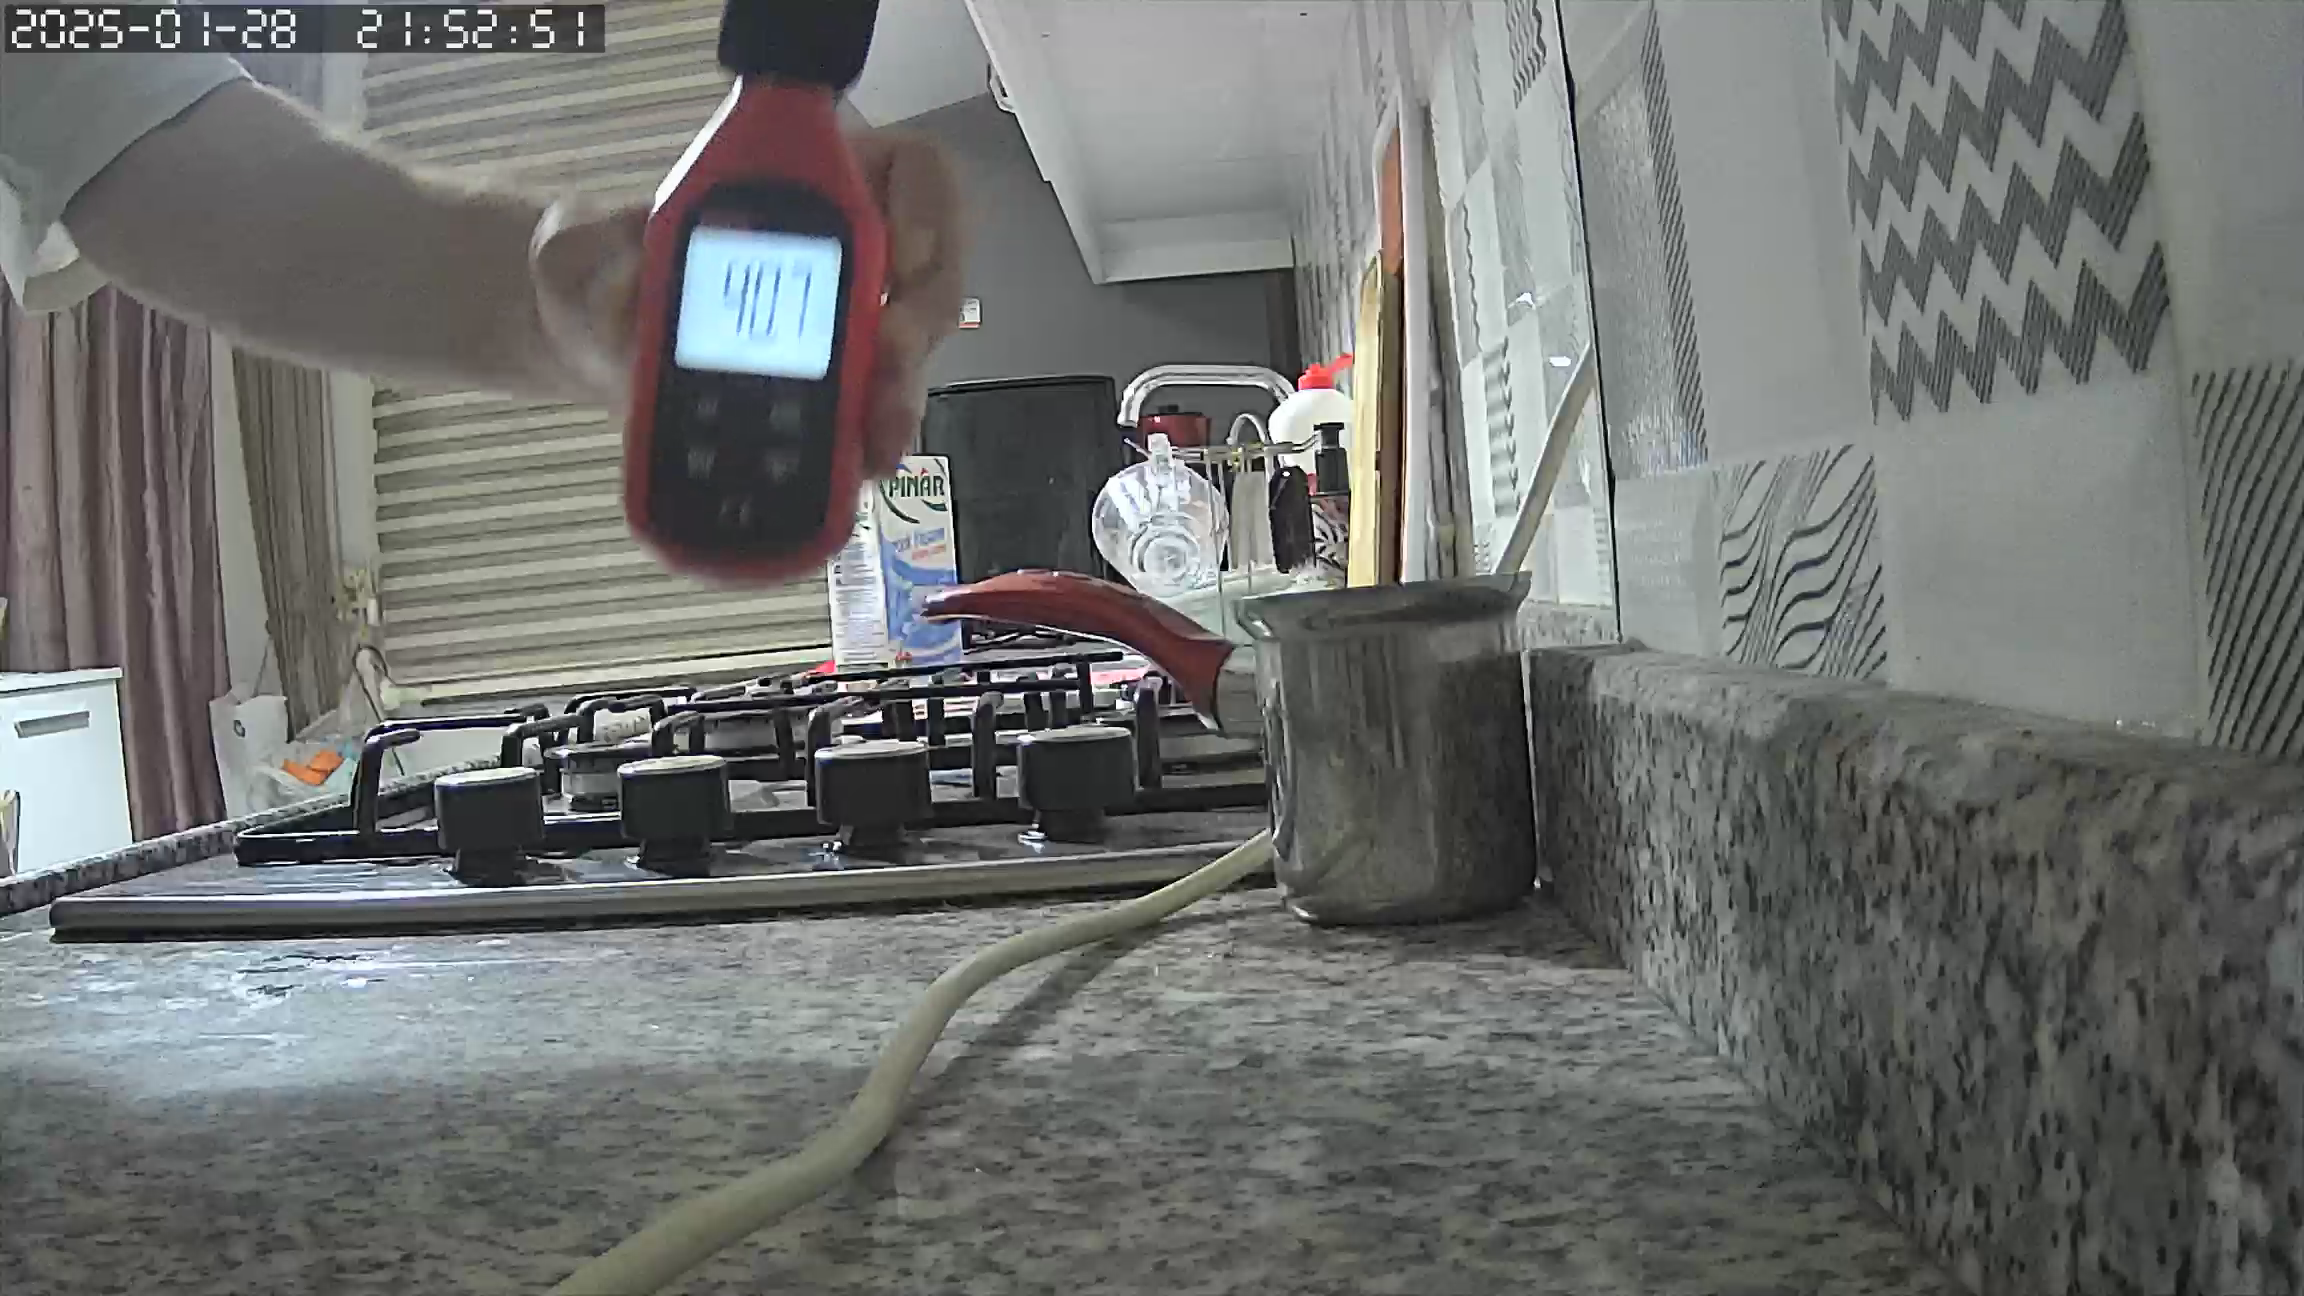screen: (668, 223, 843, 381)
